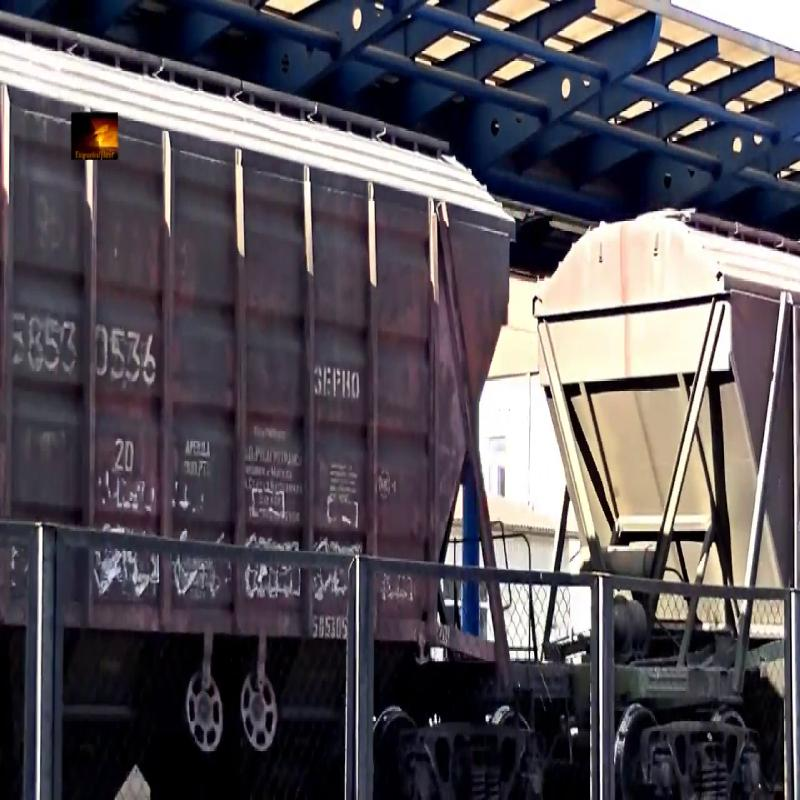train: (3, 22, 547, 771), (568, 21, 800, 769)
